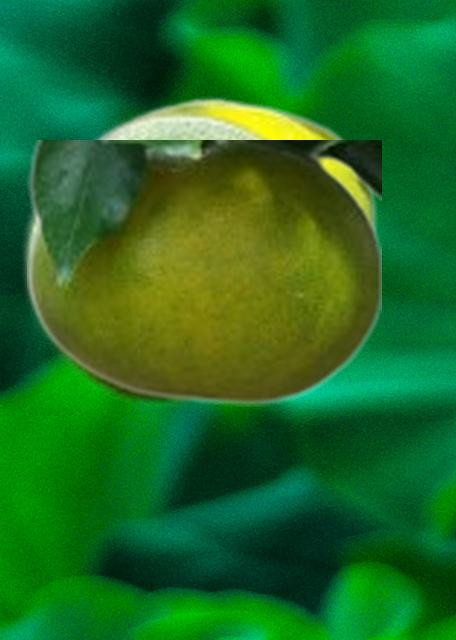dalandan: (27, 140, 380, 405), (19, 104, 279, 405), (104, 96, 376, 226)
